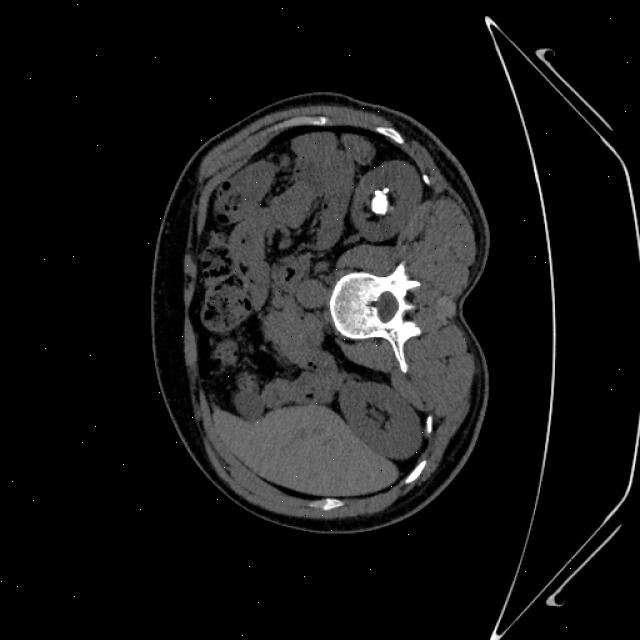kidneystone: (371, 186, 389, 214)
